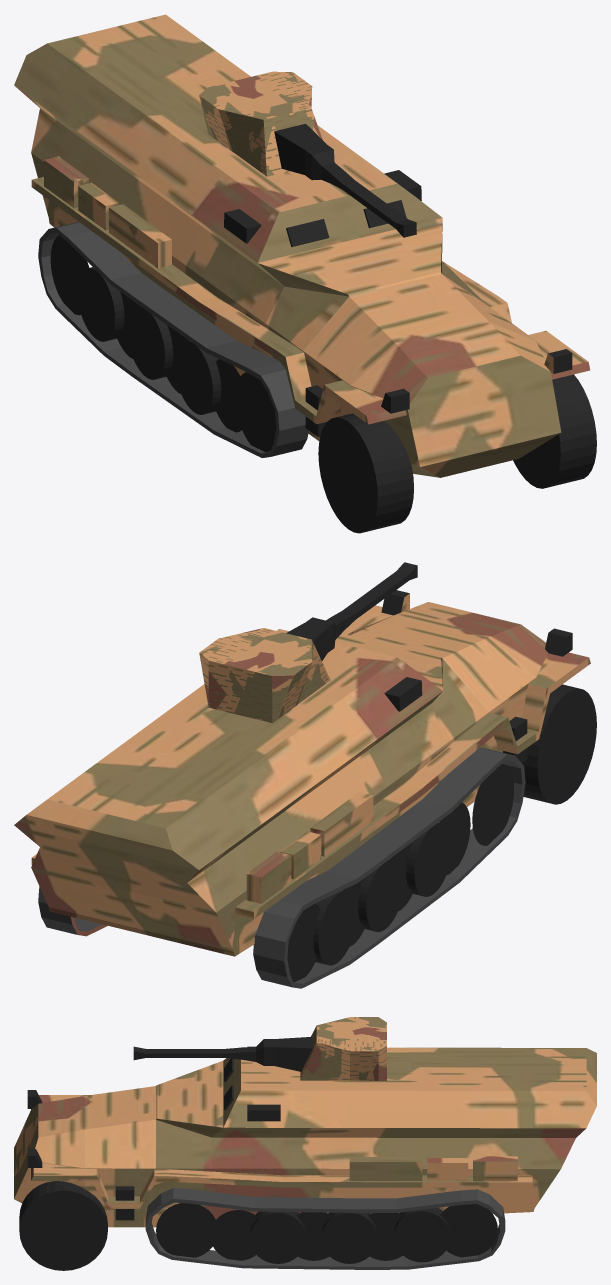
Rendered from ss_brone_car.fbx.
3 renders of one model, top to bottom at view 1: azimuth 30°, elevation 25°; view 2: azimuth 150°, elevation 25°; view 3: azimuth 270°, elevation 25°, orthographic. The views are drawn at different scales.
Parts seen in each view (by area): view 1: Cube, Cube.001, Cylinder.001, Cylinder; view 2: Cube, Cube.001, Cylinder.001; view 3: Cube, Cube.001, Cylinder.
Part boxes in pixels (<box>): Cube: <box>14,14,590,477</box>; Cube.001: <box>199,71,416,237</box>; Cylinder.001: <box>318,413,413,533</box>; Cylinder: <box>513,374,596,488</box>; Cube: <box>14,590,590,988</box>; Cube.001: <box>199,562,417,723</box>; Cylinder.001: <box>522,684,596,804</box>; Cube: <box>14,1046,596,1269</box>; Cube.001: <box>133,1017,386,1080</box>; Cylinder: <box>19,1181,107,1270</box>.
Size of the model in its own units: 839 by 862 by 2315.
Materials: 3 (1 with a texture image).
